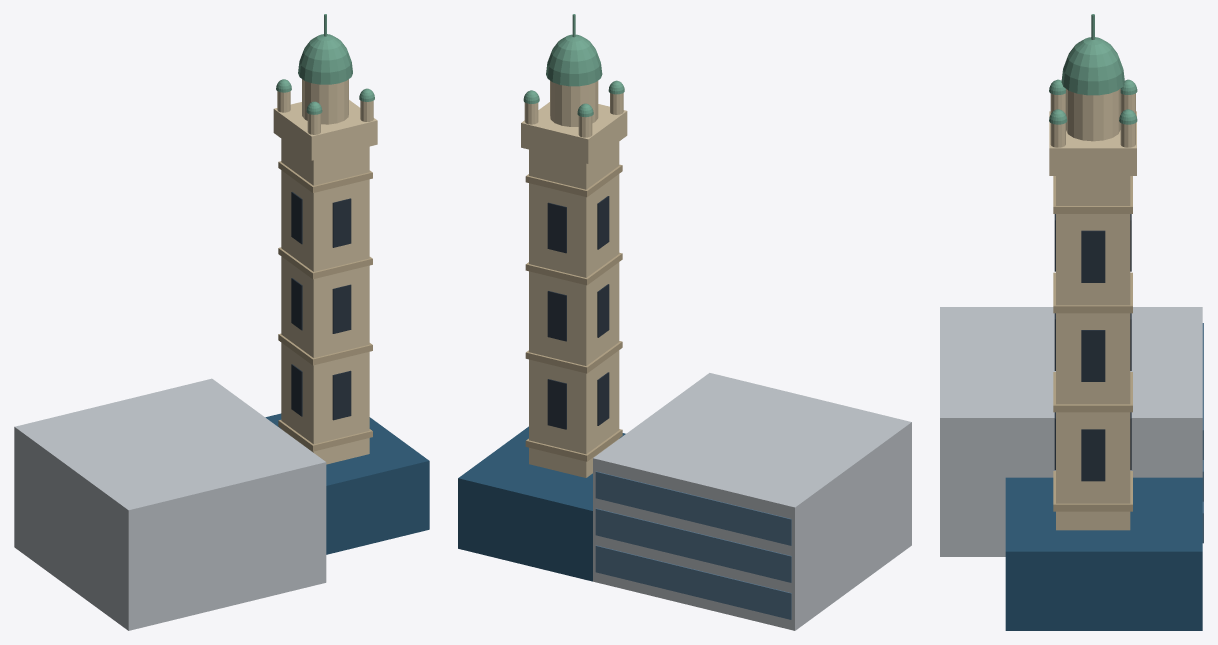
Rendered from imperial.glb.
The picture shows the model from 3 angles, left to right: view 1: azimuth 30°, elevation 25°; view 2: azimuth 150°, elevation 25°; view 3: azimuth 270°, elevation 25°; orthographic projection. The views are drawn at different scales.
Parts seen in each view (by area): view 1: imperial; view 2: imperial; view 3: imperial.
Boxes of the visible parts, x1=… form: imperial: x1=14, y1=14, x2=429, y2=630; imperial: x1=458, y1=14, x2=911, y2=630; imperial: x1=940, y1=14, x2=1203, y2=630.
Bounding box in the file's own units: 20 × 29.2 × 12.06.
